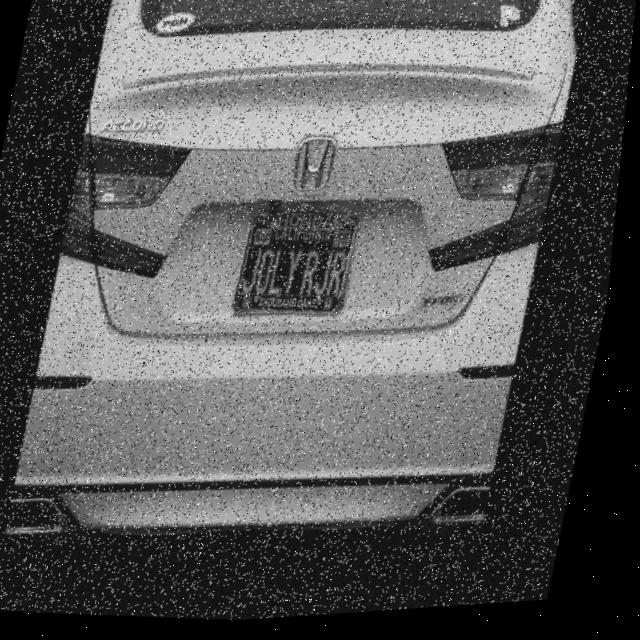LicensePlate: (236, 197, 369, 328)
